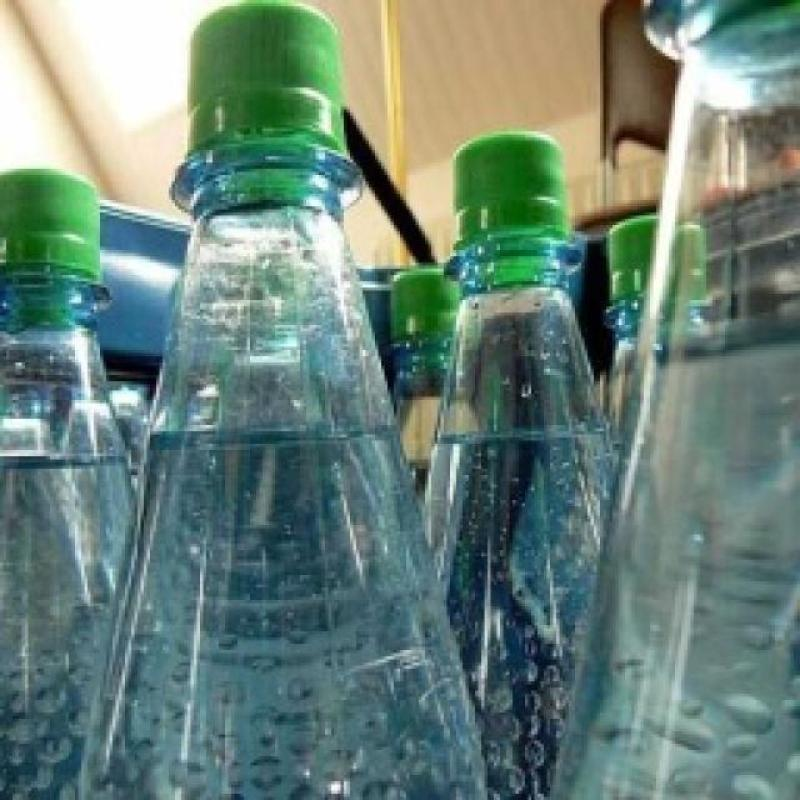botella: (71, 0, 490, 800), (559, 0, 800, 800), (422, 134, 618, 800), (0, 169, 140, 800), (387, 268, 485, 497), (607, 218, 705, 444)
